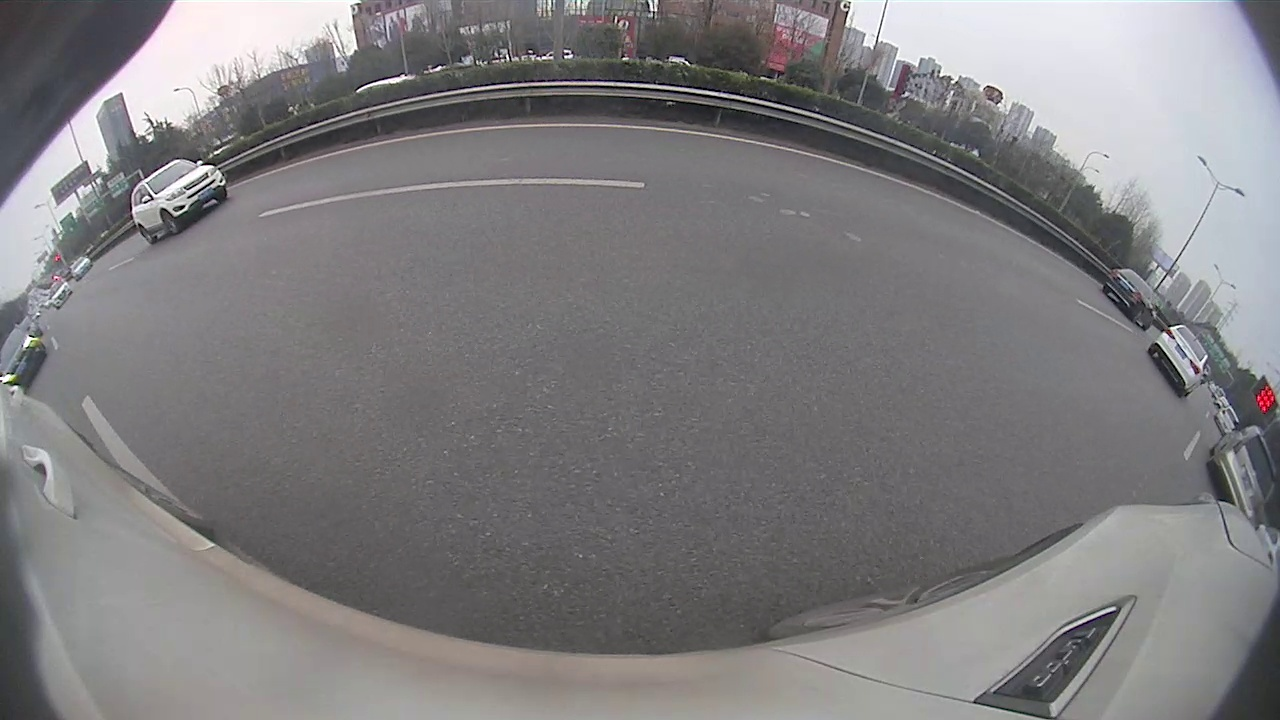car: (124, 158, 231, 244), (1210, 422, 1276, 518), (1144, 321, 1213, 400), (1103, 267, 1165, 335), (3, 322, 47, 391)
front: (162, 212, 181, 235)
rear: (138, 224, 156, 243)
